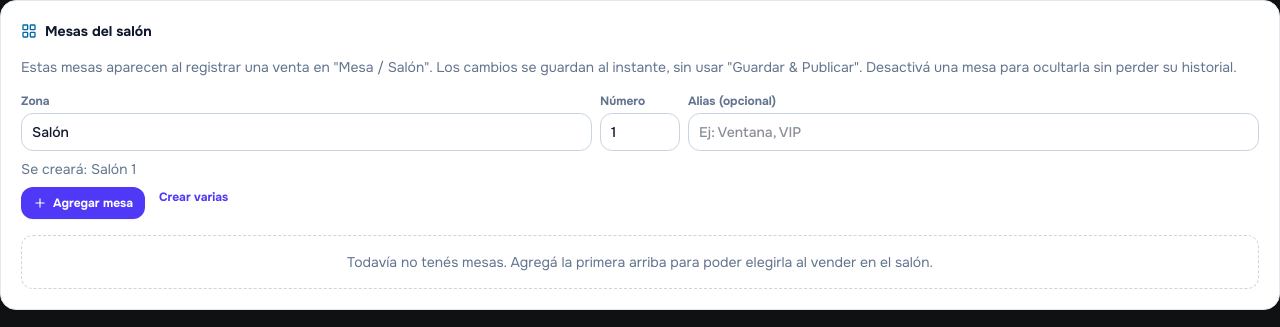
Test case: CustomizerTablesSection › goes back to creating a single table
The width and height of the screenshot is (1280, 327).
Expected: the text "Todavía no tenés mesas" is shown, [347,253,933,271]
Click the button "Crear varias".
click(194, 197)  # box [153,187,234,207]
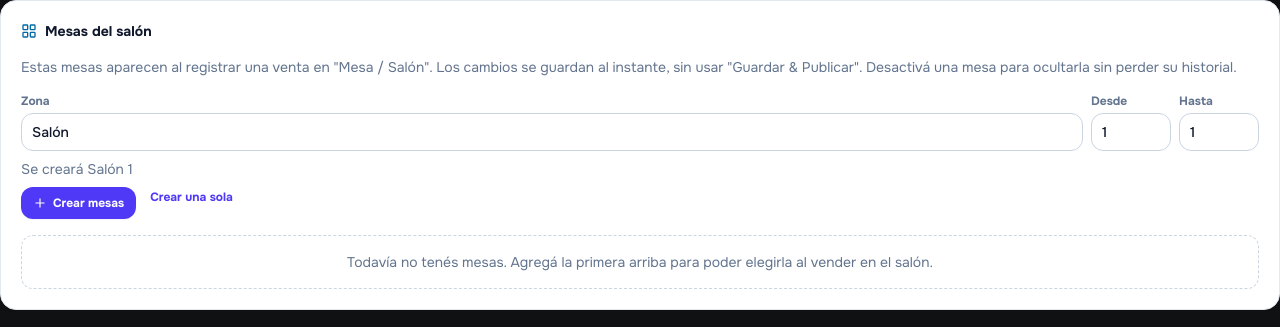
Click the button "Crear una sola".
click(192, 197)  # box [144,187,239,207]
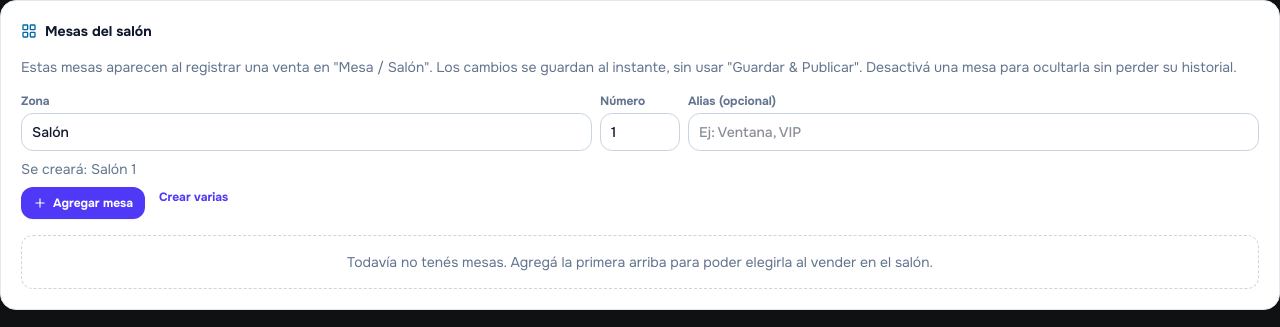
Result: the button "Agregar mesa" is shown at [21,187,145,219]
